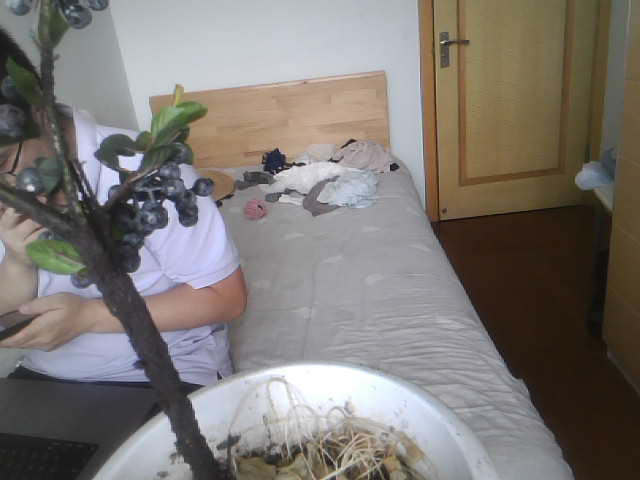blueberry: (152, 164, 187, 190), (172, 191, 200, 223), (138, 194, 166, 222), (22, 164, 48, 193), (65, 267, 99, 286), (115, 245, 142, 265), (121, 225, 144, 245), (104, 182, 127, 198), (196, 176, 212, 192)
